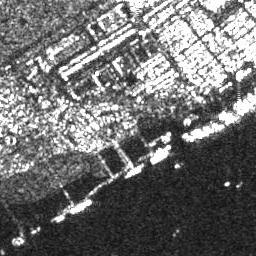ship: (70, 196, 92, 214), (149, 150, 169, 165), (125, 163, 144, 178), (55, 215, 65, 223)
